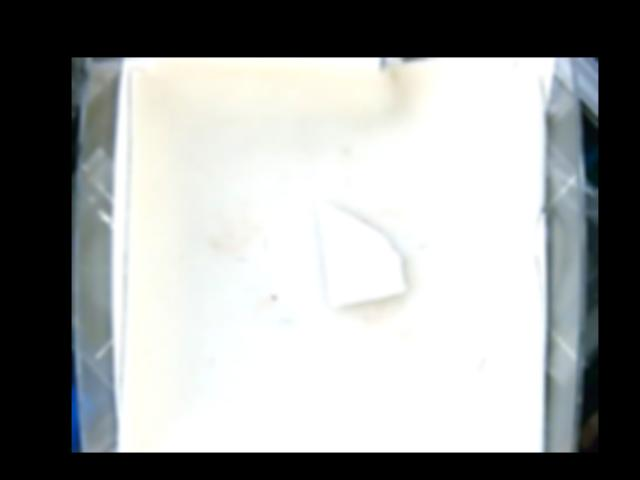China: (315, 201, 406, 306)
